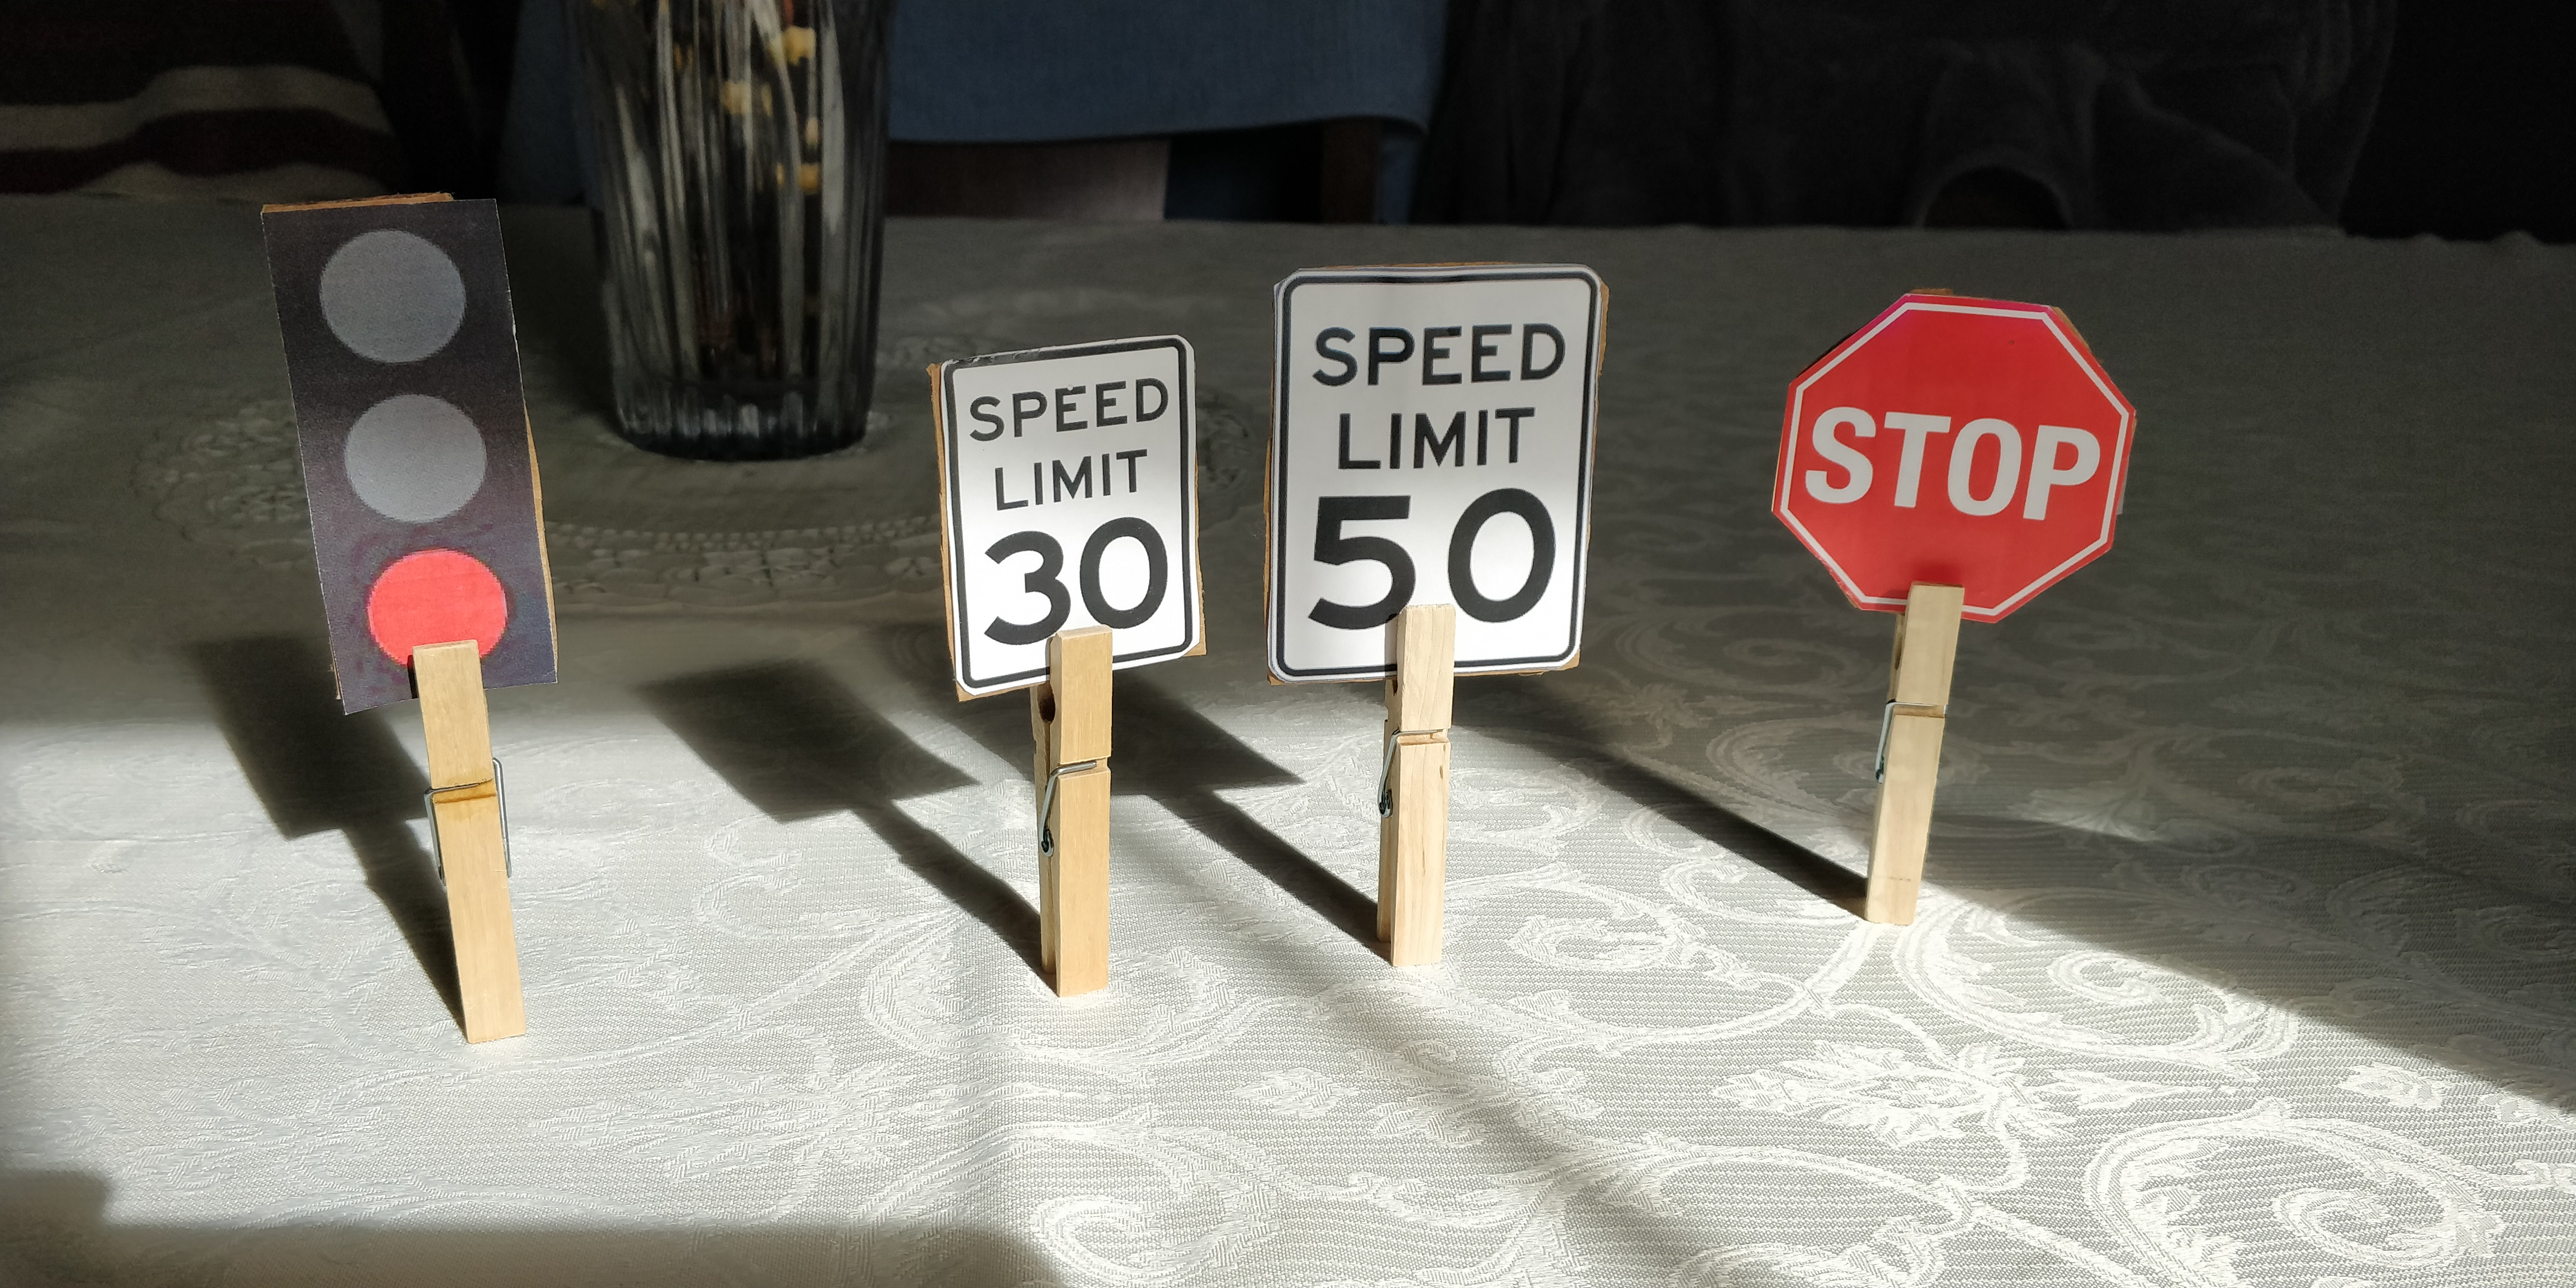Speed Limit 30: (935, 333, 1203, 697)
Speed Limit 50: (1263, 260, 1608, 678)
Stop Sign: (1773, 296, 2136, 626)
red light: (258, 197, 559, 716)
